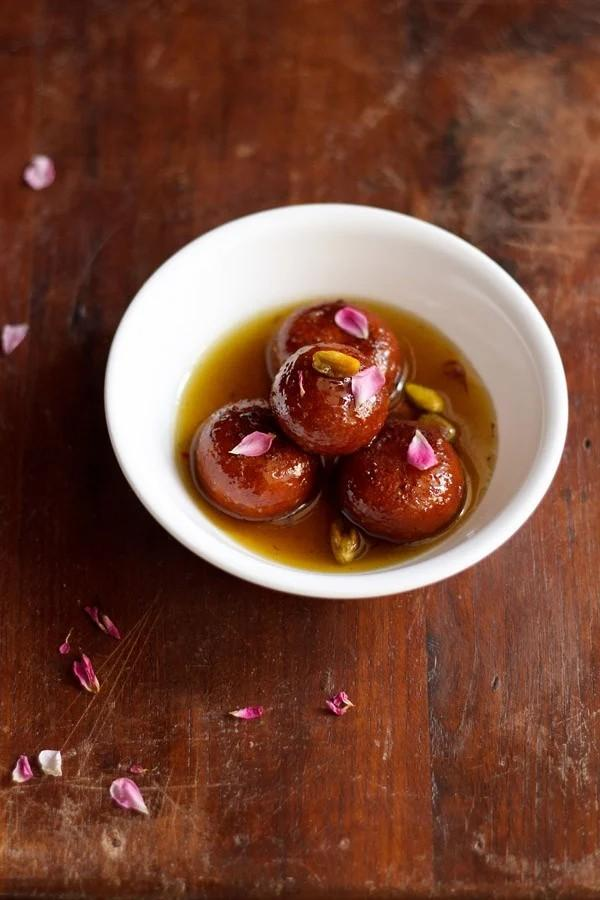GulabJamun: (185, 395, 323, 520), (335, 416, 473, 539), (271, 342, 395, 455), (271, 292, 418, 380)
